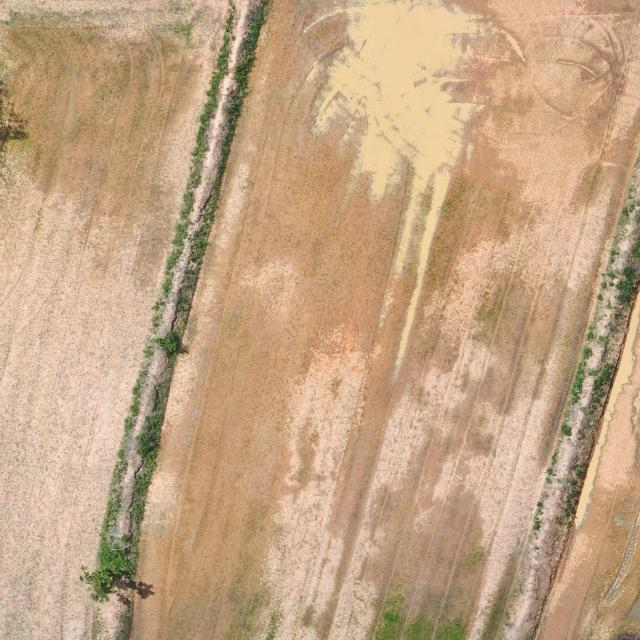tree: (78, 548, 136, 604)
